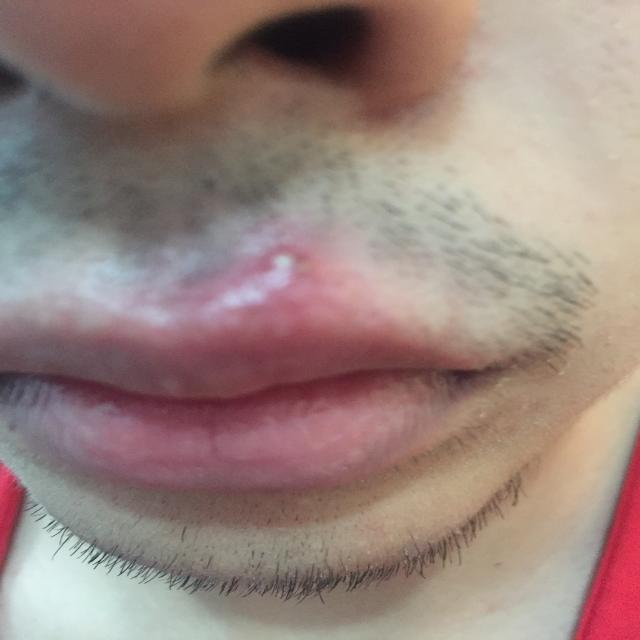blackheads: (256, 241, 316, 287)
